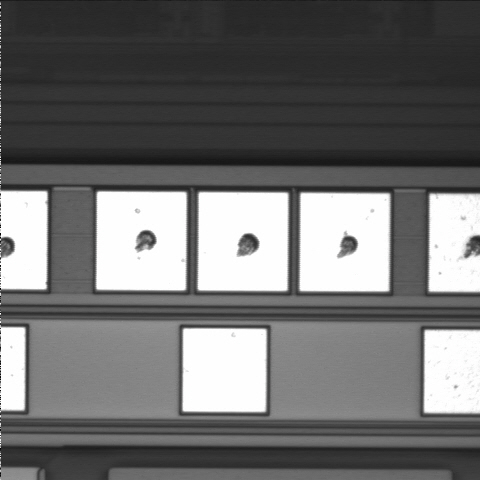pad: (198, 192, 288, 291), (96, 192, 186, 290), (300, 193, 390, 291), (183, 329, 266, 412)
